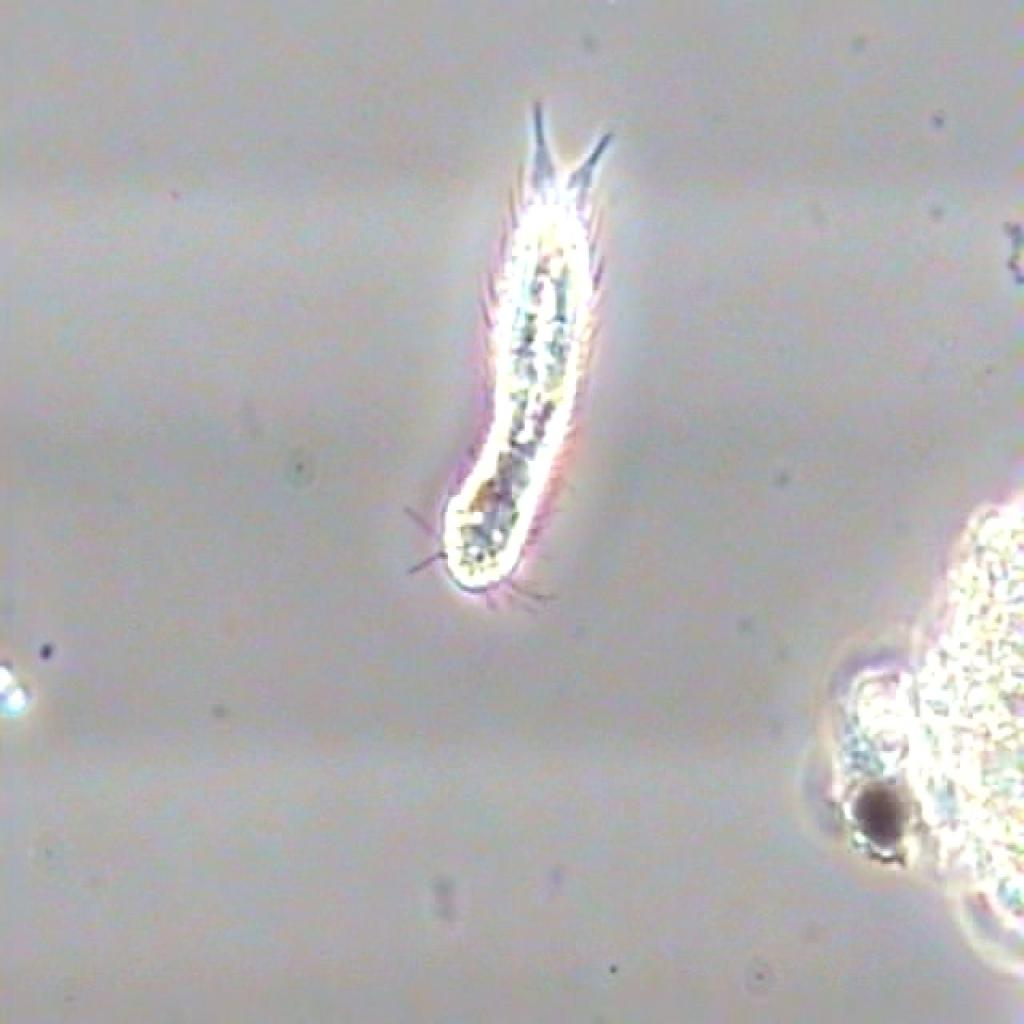Chaetonotus: (375, 88, 633, 630)
